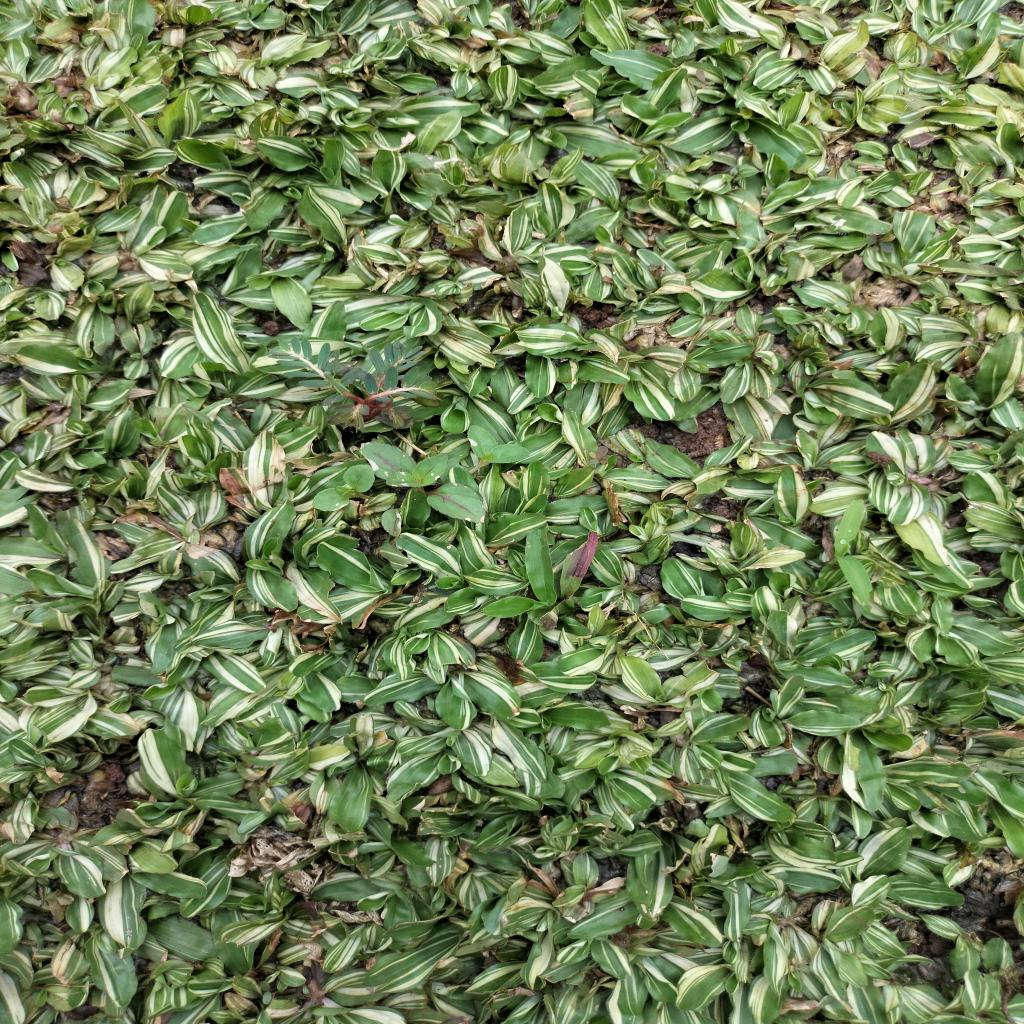buah daun: (266, 330, 450, 436)
rambat bawah: (476, 524, 600, 618)
ungu tunggang: (313, 438, 495, 533)
